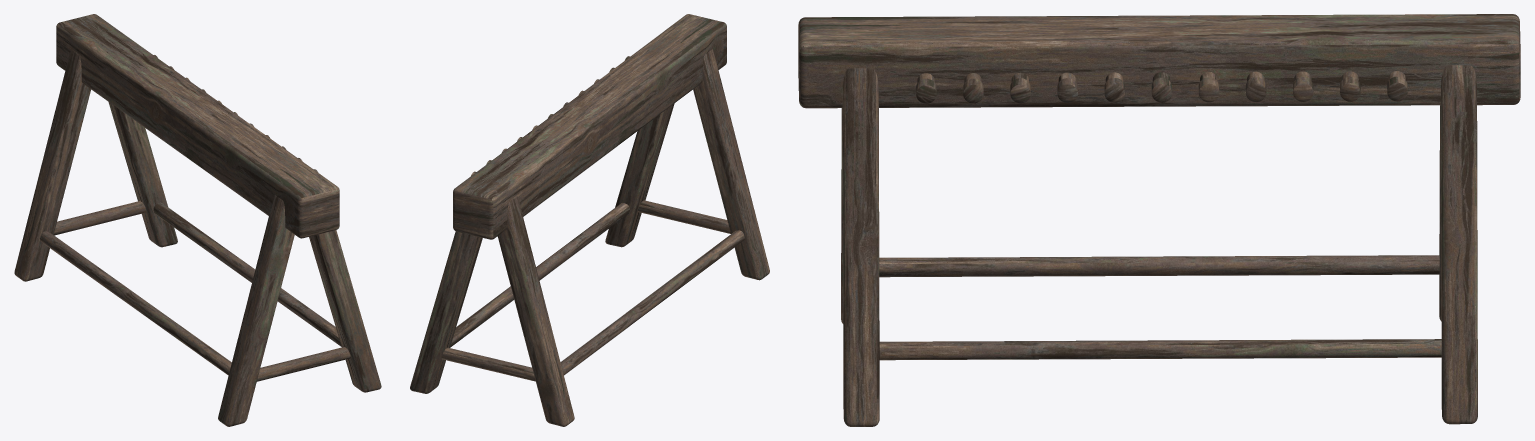
The model's file is Стенд.fbx.
The picture shows the model from 3 angles, left to right: view 1: azimuth 30°, elevation 25°; view 2: azimuth 150°, elevation 25°; view 3: azimuth 270°, elevation 25°; orthographic projection. The views are drawn at different scales.
Parts seen in each view (by area): view 1: Cube.042; view 2: Cube.042; view 3: Cube.042.
Part boxes in pixels (left/top/right/bottom): Cube.042: left=14, top=14, right=381, bottom=426; Cube.042: left=410, top=14, right=769, bottom=426; Cube.042: left=798, top=14, right=1520, bottom=426.
Bounding box in the file's own units: 41.61 × 56.73 × 109.
Materials: 1 (1 with a texture image).
